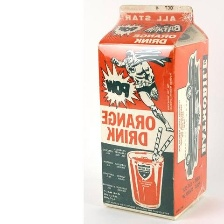carton: (94, 3, 210, 220)
